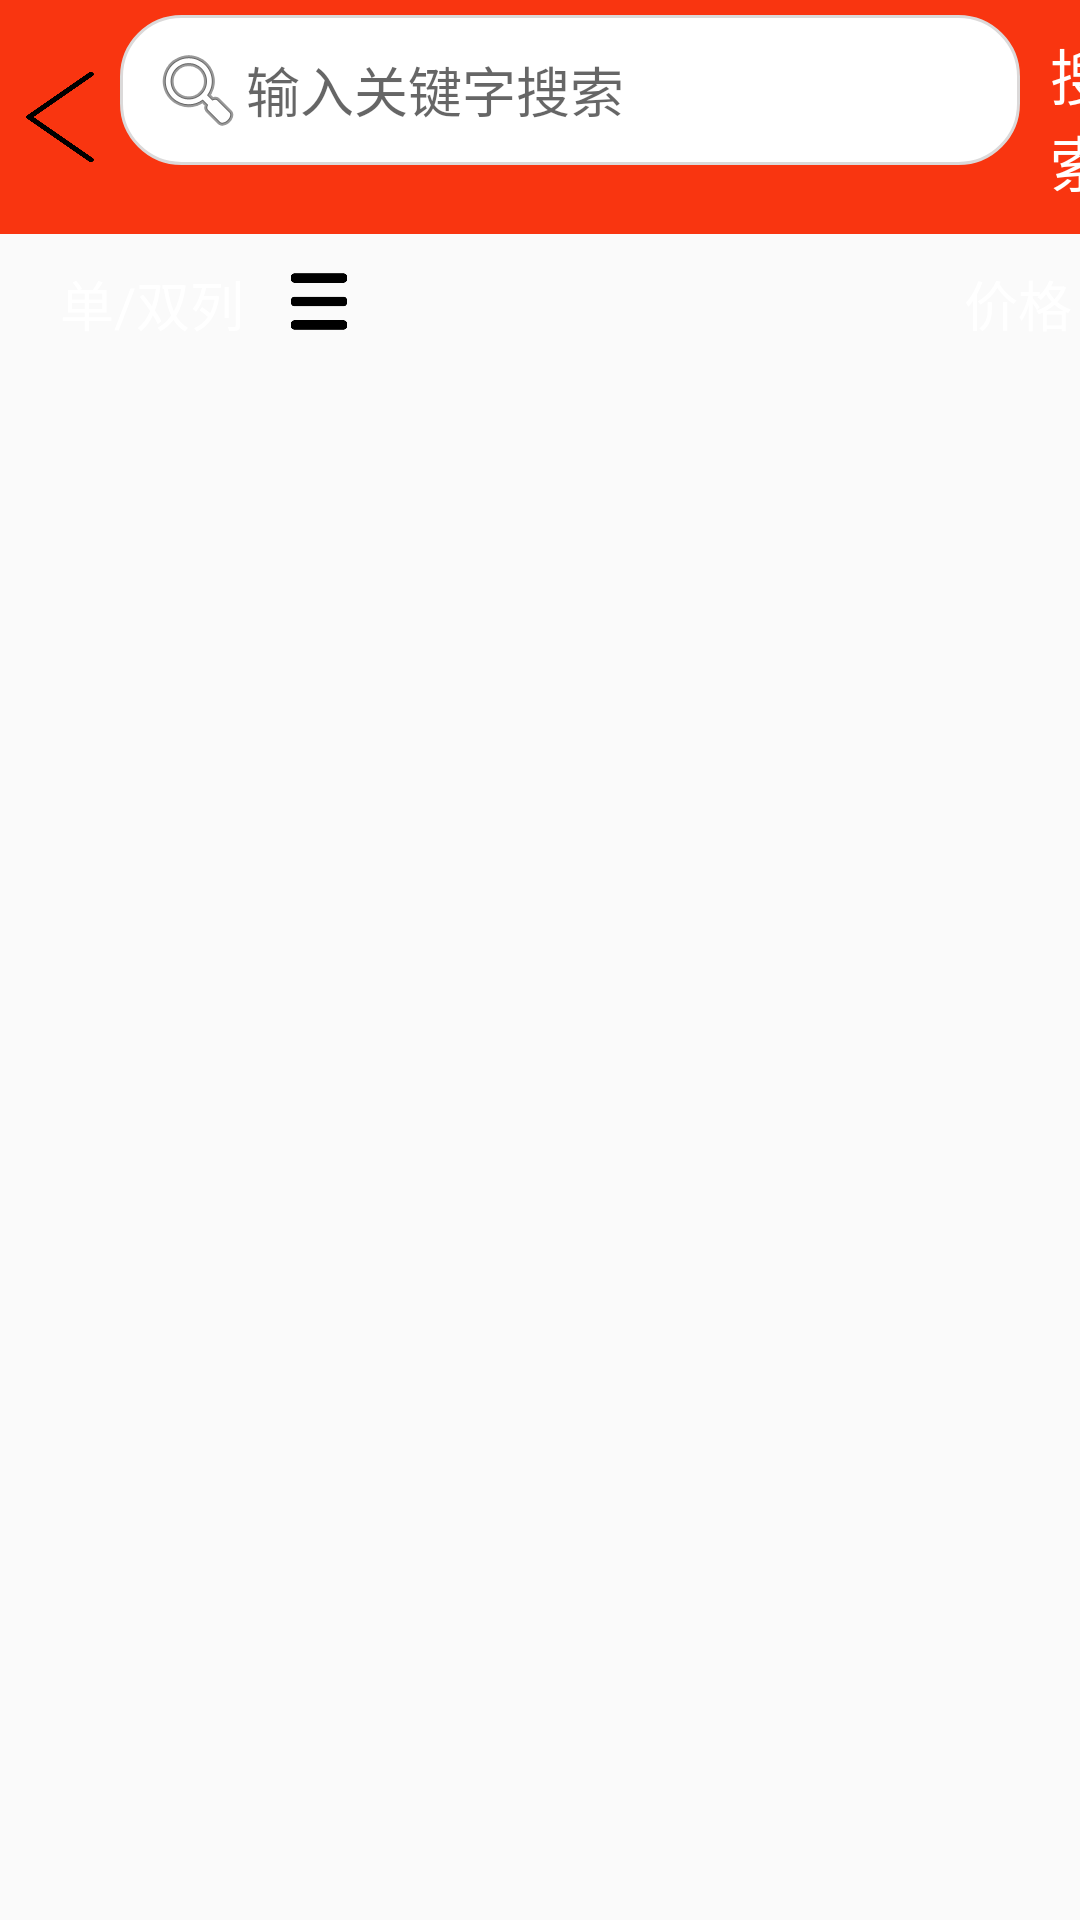

Screen size 1080x1920. Icon name, then its box in pixels as (x1, y1, x2, y2):
back: (26, 72, 94, 162)
onelist: (291, 273, 347, 330)
